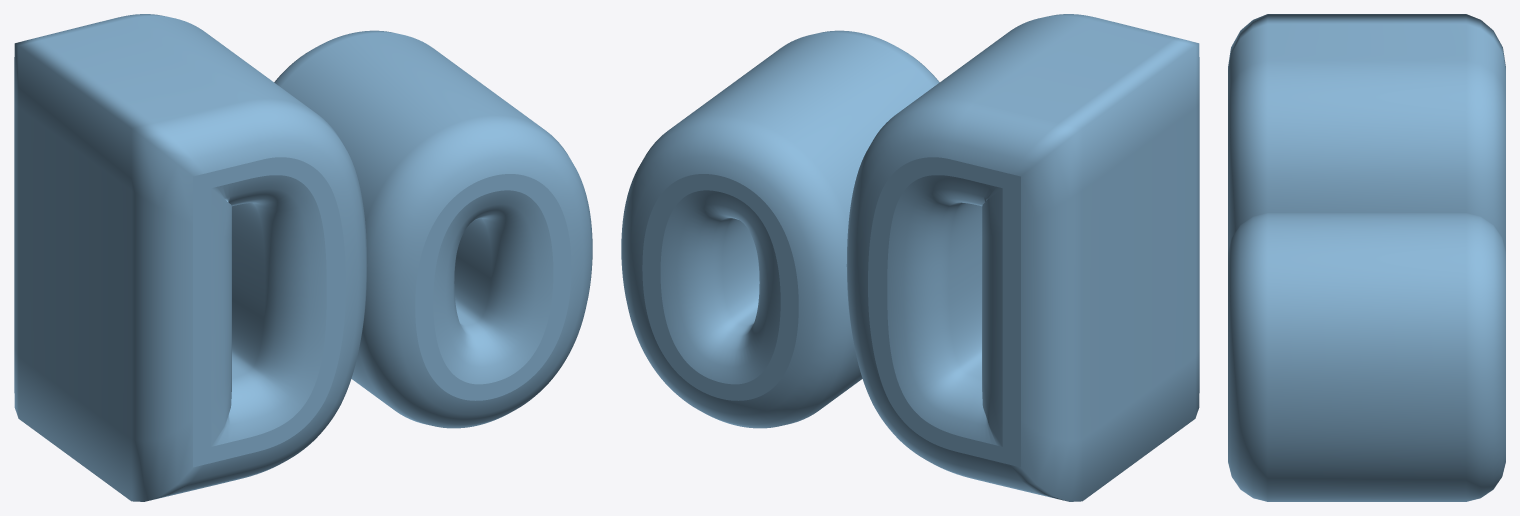
3 views of the same model, side by side, from view 1: azimuth 30°, elevation 25°; view 2: azimuth 150°, elevation 25°; view 3: azimuth 270°, elevation 25° (orthographic). The views are drawn at different scales.
Parts seen in each view (by area): view 1: polySurface8; view 2: polySurface8; view 3: polySurface8.
Boxes of the visible parts, box(x1,y1,x2,y2) form: polySurface8: box(14, 14, 592, 501); polySurface8: box(621, 14, 1199, 501); polySurface8: box(1228, 14, 1505, 501).
Bounding box in the file's own units: 1.17 × 0.9221 × 0.7.
